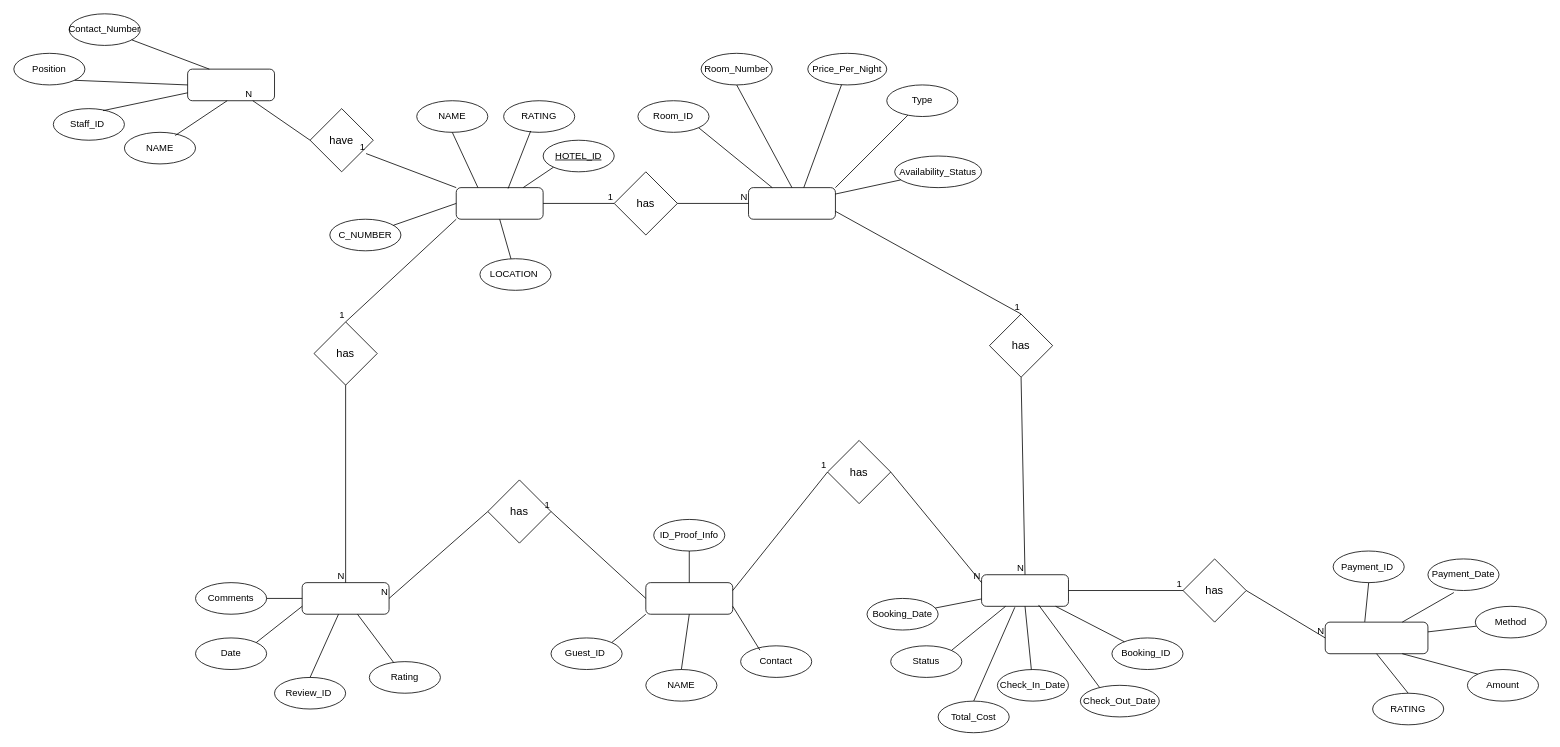
This 1560x747 diagram has some shape labels left out. The shapes that lost their labels are listed below. From the top down, each one's centre as x and y in pixels, then its label:
[231,84]: Staff
[499,203]: HOTEL
[791,203]: Room
[345,598]: Review
[689,598]: Guest
[1024,590]: Booking
[1376,637]: Payment
